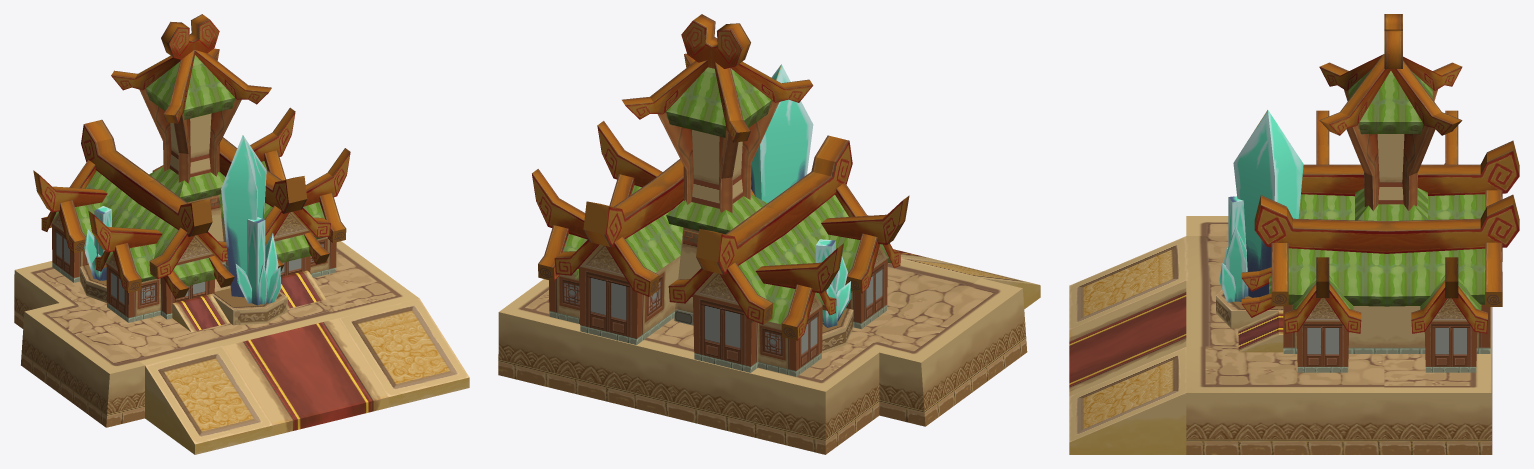
The model's file is Crystal_low.FBX.
3 renders of one model, left to right at view 1: azimuth 30°, elevation 25°; view 2: azimuth 150°, elevation 25°; view 3: azimuth 270°, elevation 25°, orthographic. The views are drawn at different scales.
Parts seen in each view (by area): view 1: Crystal_low; view 2: Crystal_low; view 3: Crystal_low.
Boxes of the visible parts, box(x1,y1,x2,y2) form: Crystal_low: box(14, 14, 469, 454); Crystal_low: box(498, 14, 1040, 454); Crystal_low: box(1069, 14, 1519, 454).
Bounding box in the file's own units: 60.88 × 64.69 × 55.69.
